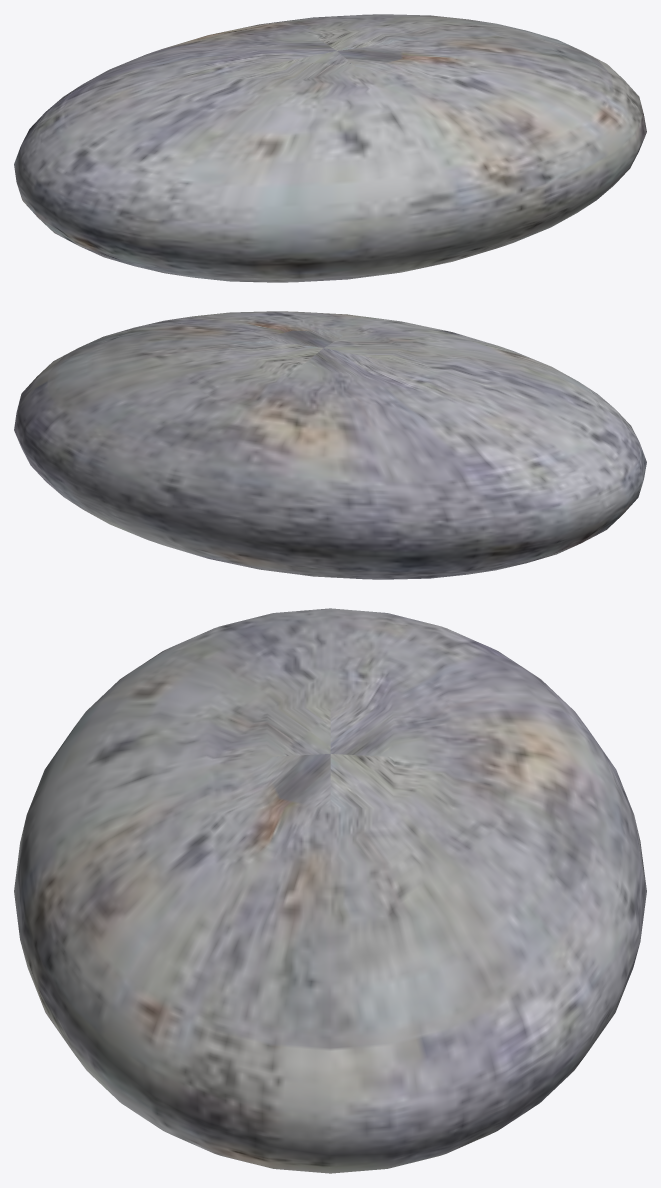
Rendered from Cockpit_Rear.fbx.
3 views of the same model, one above another, from view 1: azimuth 30°, elevation 25°; view 2: azimuth 150°, elevation 25°; view 3: azimuth 270°, elevation 25° (orthographic). The views are drawn at different scales.
Visible parts, largest first — view 1: Cockpit_Rear; view 2: Cockpit_Rear; view 3: Cockpit_Rear.
Boxes of the visible parts, box(x1,y1,x2,y2) form: Cockpit_Rear: box(14, 14, 646, 282); Cockpit_Rear: box(14, 311, 646, 579); Cockpit_Rear: box(14, 608, 646, 1173).
Bounding box in the file's own units: 1.41 × 0.4443 × 0.875.
